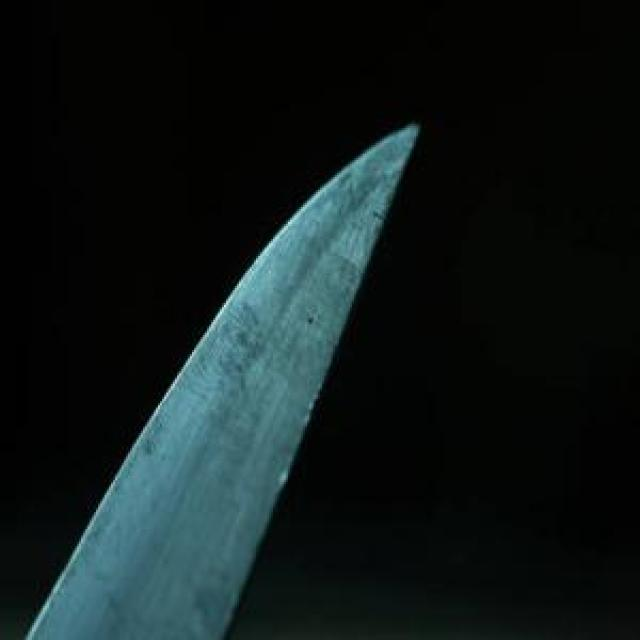knife: (24, 119, 424, 639)
